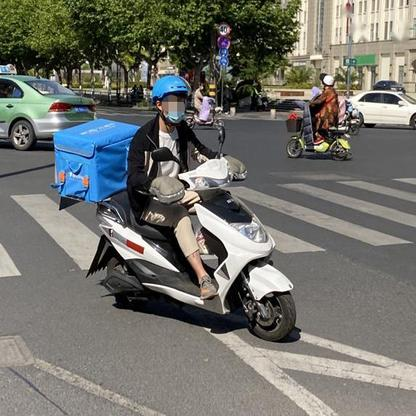target: (47, 74, 297, 343), (284, 74, 353, 161)
